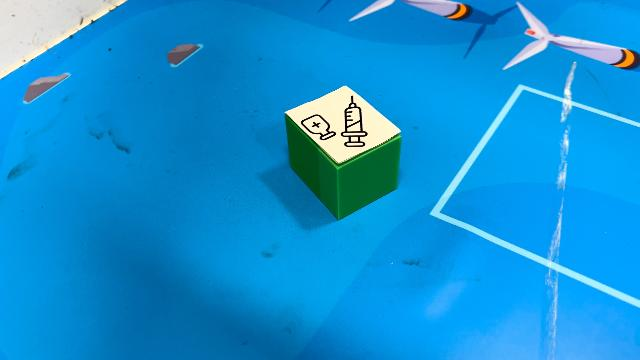syringe: (284, 84, 402, 220)
